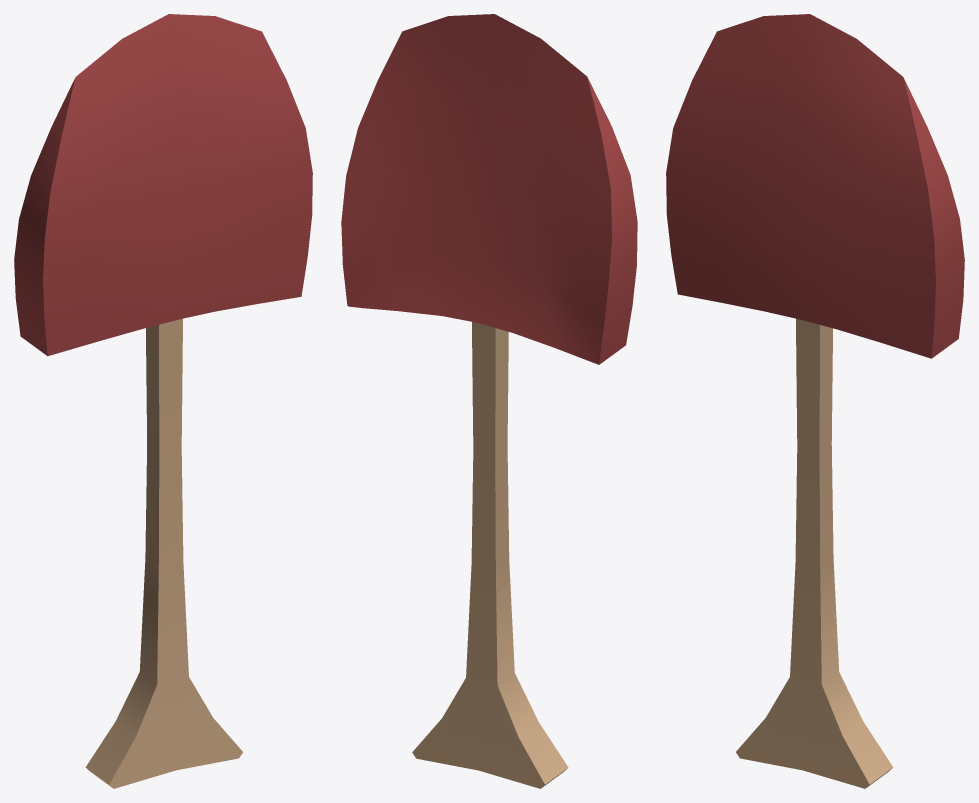
Rendered from Weapon_06_Shovel.fbx.
3 renders of one model, left to right at view 1: azimuth 30°, elevation 25°; view 2: azimuth 150°, elevation 25°; view 3: azimuth 330°, elevation 25°, orthographic.
Visible parts, largest first — view 1: dummy_Prop_shovel; view 2: dummy_Prop_shovel; view 3: dummy_Prop_shovel.
Part boxes in pixels (box(x1,y1,x2,y2)): dummy_Prop_shovel: box(14, 14, 312, 788); dummy_Prop_shovel: box(341, 14, 637, 788); dummy_Prop_shovel: box(666, 14, 964, 788).
Bounding box in the file's own units: 27.01 × 72.29 × 5.87.
